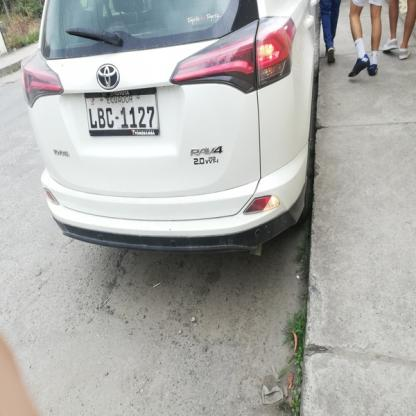Placa: (80, 94, 162, 138)
